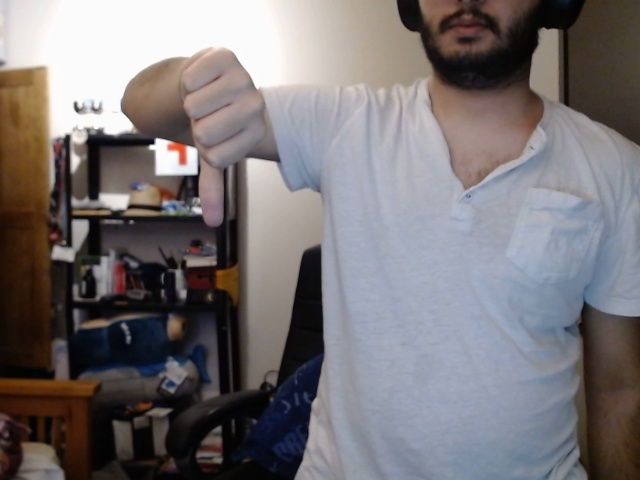Thumbs down: (169, 36, 279, 235)
